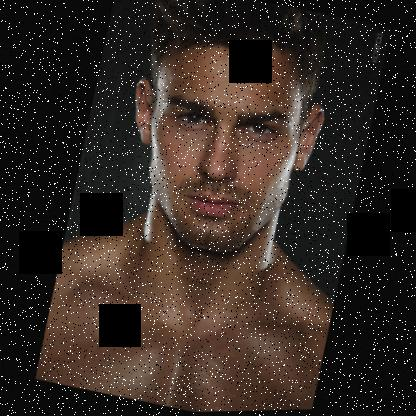Male: (103, 25, 338, 271)
